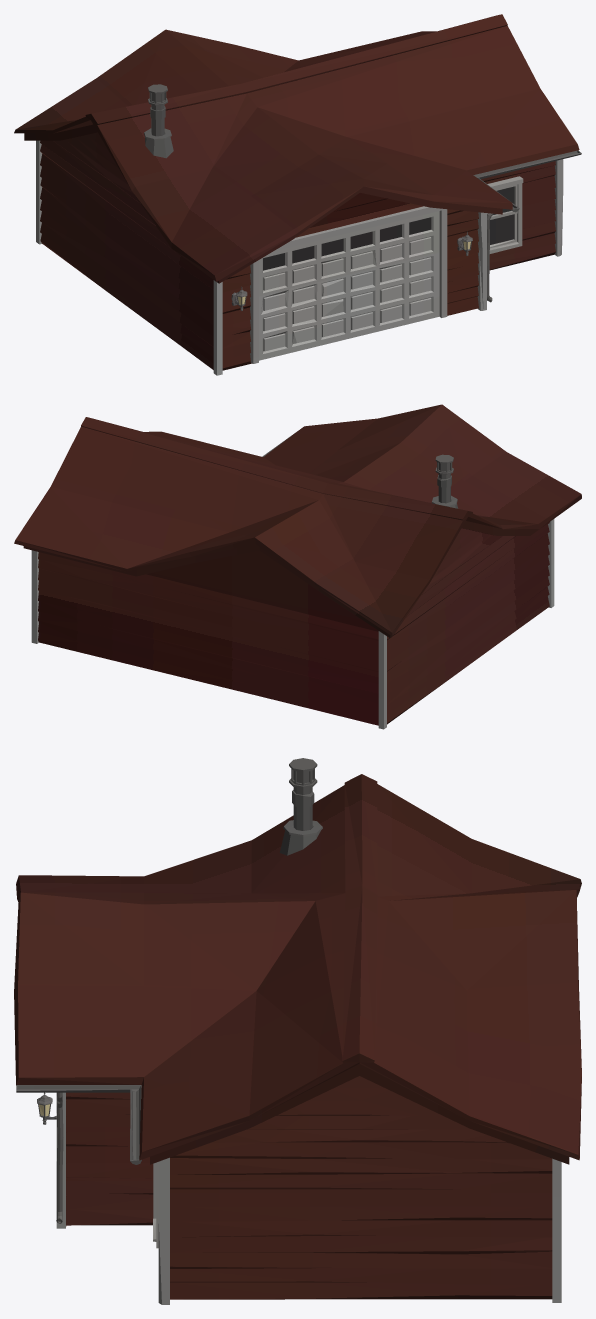
Rendered from House04.fbx.
3 renders of one model, top to bottom at view 1: azimuth 30°, elevation 25°; view 2: azimuth 150°, elevation 25°; view 3: azimuth 270°, elevation 25°, orthographic. The views are drawn at different scales.
Visible parts, largest first — view 1: SM_House_05.mo; view 2: SM_House_05.mo; view 3: SM_House_05.mo.
Part boxes in pixels (x1=…): SM_House_05.mo: x1=14, y1=14, x2=581, y2=375; SM_House_05.mo: x1=14, y1=404, x2=581, y2=729; SM_House_05.mo: x1=14, y1=758, x2=581, y2=1304.
Bounding box in the file's own units: 1090 × 546 × 935.
